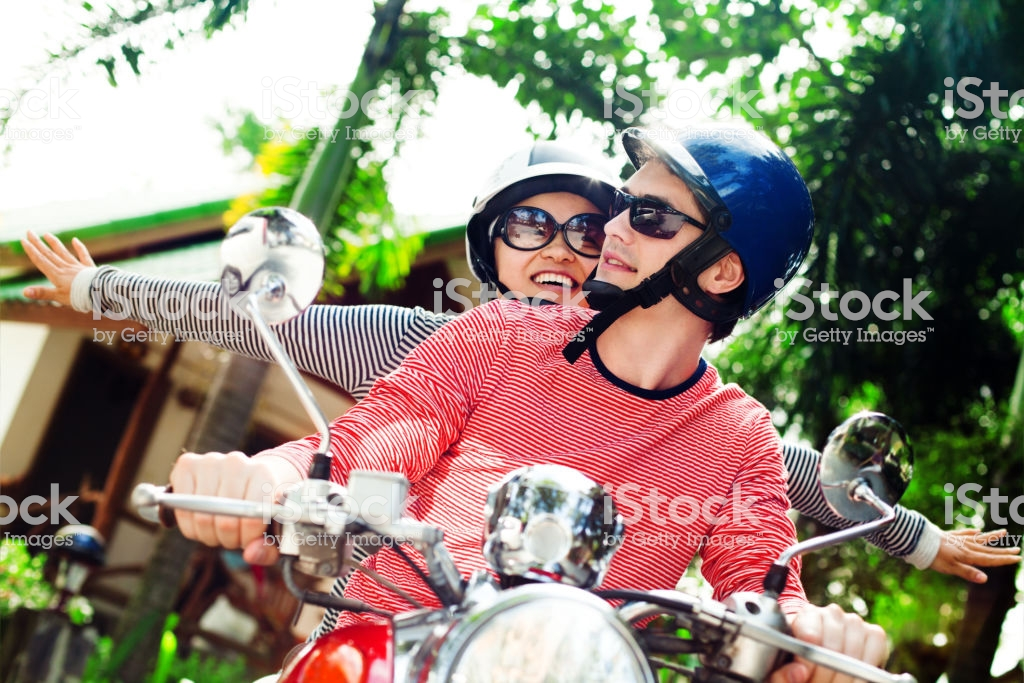helmet: (635, 106, 832, 304), (465, 133, 621, 209)
